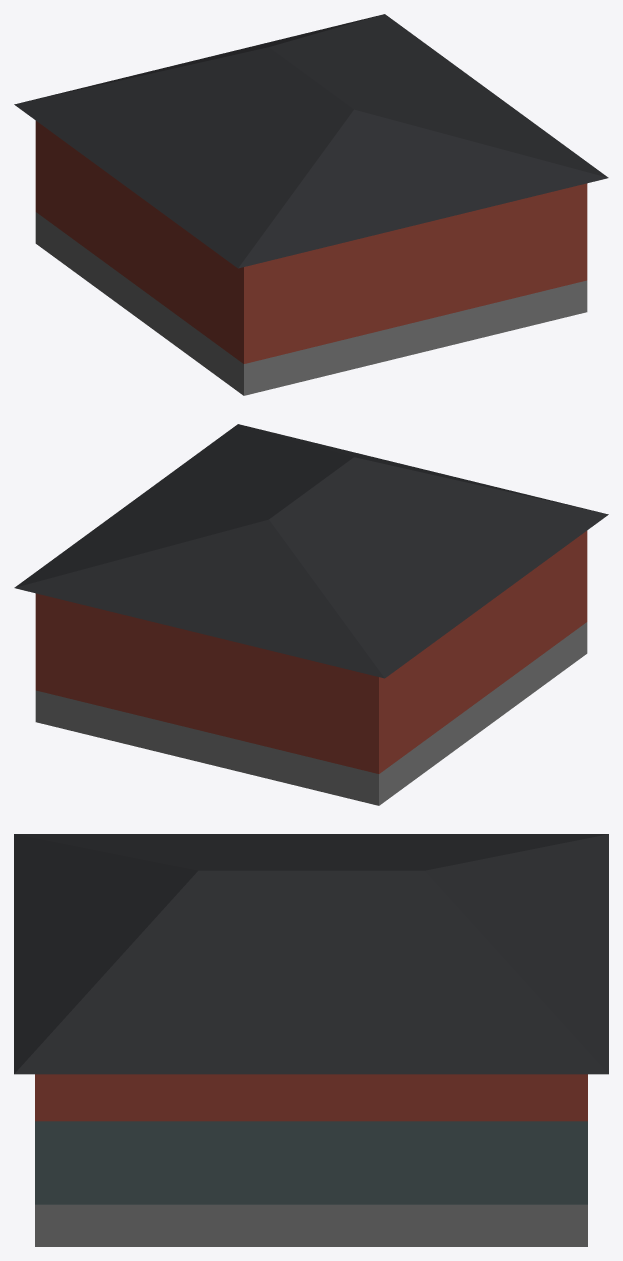
Rendered from far.fbx.
3 views of the same model, one above another, from view 1: azimuth 30°, elevation 25°; view 2: azimuth 150°, elevation 25°; view 3: azimuth 270°, elevation 25° (orthographic). The views are drawn at different scales.
Visible parts, largest first — view 1: a2000/200/far; view 2: a2000/200/far; view 3: a2000/200/far.
Boxes of the visible parts, x1=… form: a2000/200/far: x1=14, y1=14, x2=608, y2=395; a2000/200/far: x1=14, y1=424, x2=608, y2=805; a2000/200/far: x1=14, y1=834, x2=608, y2=1246.
Bounding box in the file's own units: 10.8 × 5.55 × 11.3.
